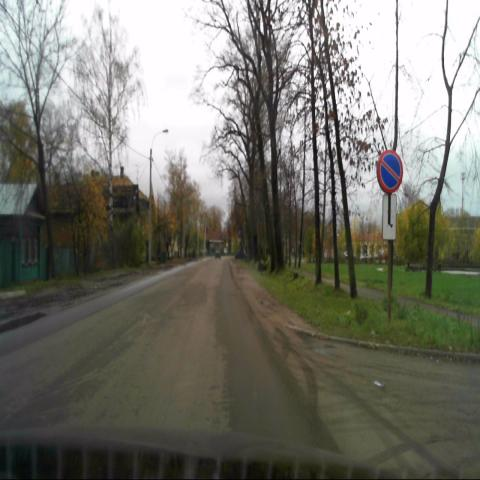3_28: (376, 150, 402, 194)
